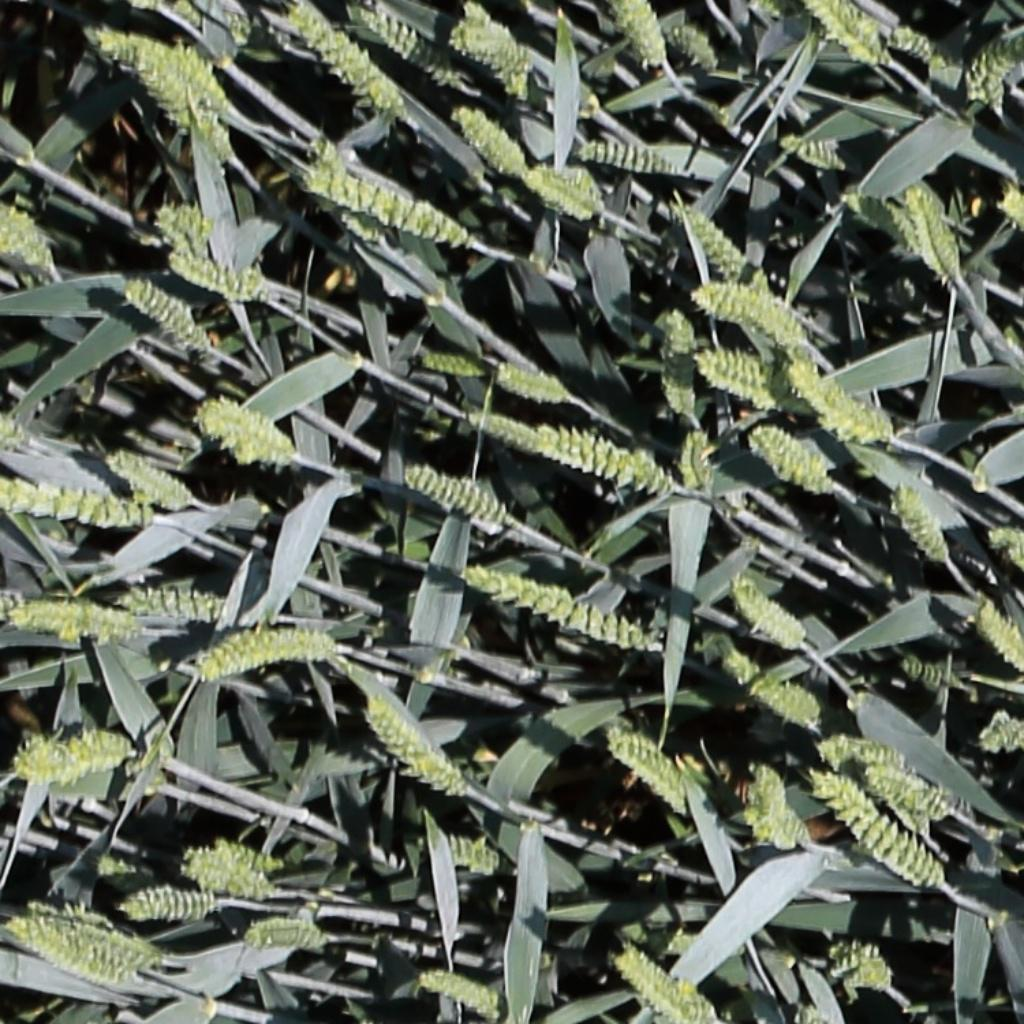0-0: (476, 573, 669, 656), (811, 774, 943, 891), (283, 4, 405, 121), (123, 63, 249, 165), (301, 169, 465, 243), (196, 609, 343, 687), (359, 697, 465, 798), (530, 418, 667, 496), (90, 20, 208, 96), (849, 732, 961, 812), (691, 275, 812, 348), (350, 6, 454, 84), (44, 919, 170, 982), (719, 651, 817, 729), (787, 361, 886, 438), (196, 395, 296, 468), (14, 592, 143, 648), (832, 180, 922, 260), (6, 910, 121, 971), (746, 423, 834, 501), (162, 249, 274, 308), (16, 731, 134, 787), (606, 733, 688, 813), (401, 465, 510, 525), (465, 405, 574, 465), (120, 278, 208, 352), (693, 353, 798, 415), (614, 948, 699, 1024), (0, 481, 140, 525), (903, 180, 962, 281), (678, 200, 749, 283), (888, 481, 953, 569), (450, 101, 524, 177), (461, 1, 537, 75), (729, 576, 804, 648), (180, 845, 271, 902), (461, 567, 573, 613), (102, 449, 188, 507), (806, 2, 882, 66), (522, 166, 603, 225), (445, 22, 536, 74), (110, 582, 225, 623), (120, 884, 220, 930), (577, 139, 684, 181), (866, 770, 953, 821), (245, 915, 335, 961), (608, 0, 667, 69), (973, 598, 1024, 677), (962, 31, 1024, 95), (747, 758, 791, 845), (0, 200, 55, 268), (415, 972, 501, 1015), (660, 303, 692, 417), (811, 731, 874, 783), (491, 364, 569, 400), (827, 944, 890, 988), (663, 23, 719, 72), (679, 420, 711, 501), (420, 841, 496, 875), (303, 126, 348, 181), (779, 132, 845, 169), (976, 703, 1024, 753), (214, 839, 278, 876), (884, 21, 940, 63), (899, 658, 962, 693), (777, 804, 815, 859), (417, 350, 483, 375), (1004, 543, 1024, 611), (991, 528, 1024, 562), (999, 189, 1024, 229)
